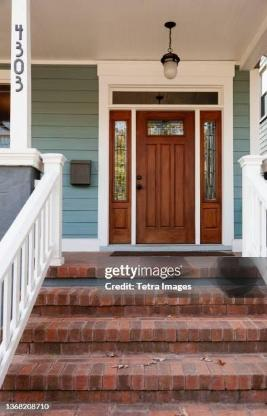door: (14, 244, 267, 416), (102, 79, 229, 251)
